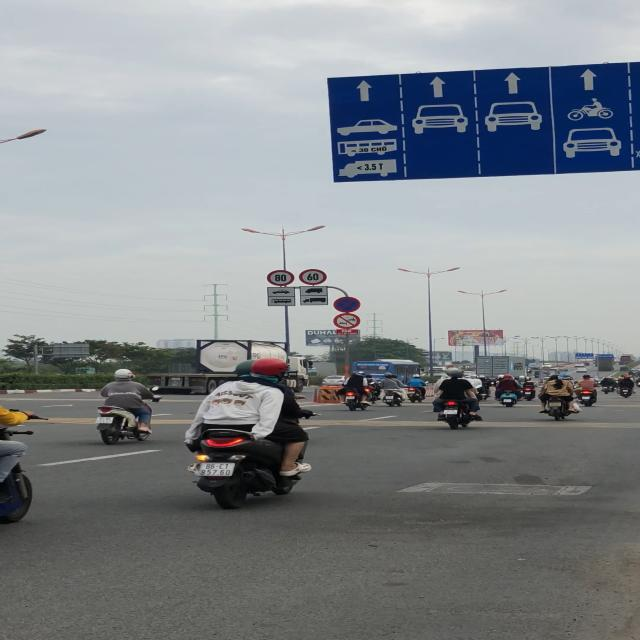Bien bao cam dung xe va do xe: (334, 296, 362, 314)
Bien bao toc do toi da cho phep: (266, 269, 296, 287), (297, 269, 328, 286)
